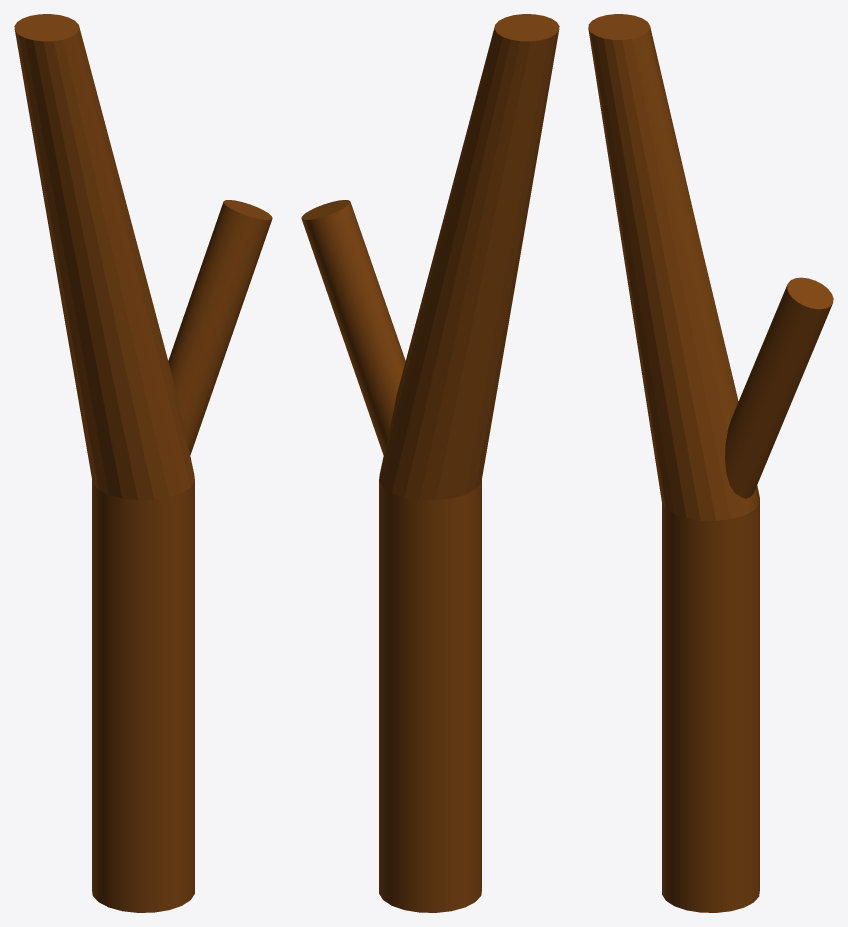
Rendered from eda.fbx.
The picture shows the model from 3 angles, left to right: view 1: azimuth 30°, elevation 25°; view 2: azimuth 150°, elevation 25°; view 3: azimuth 330°, elevation 25°; orthographic projection. The views are drawn at different scales.
Visible parts, largest first — view 1: pCylinder3; view 2: pCylinder3; view 3: pCylinder3.
Part boxes in pixels (box(x1,y1,x2,y2)): pCylinder3: box(14, 14, 272, 912); pCylinder3: box(301, 14, 559, 912); pCylinder3: box(588, 14, 833, 912).
Size of the model in its own units: 11.14 by 37.72 by 4.
